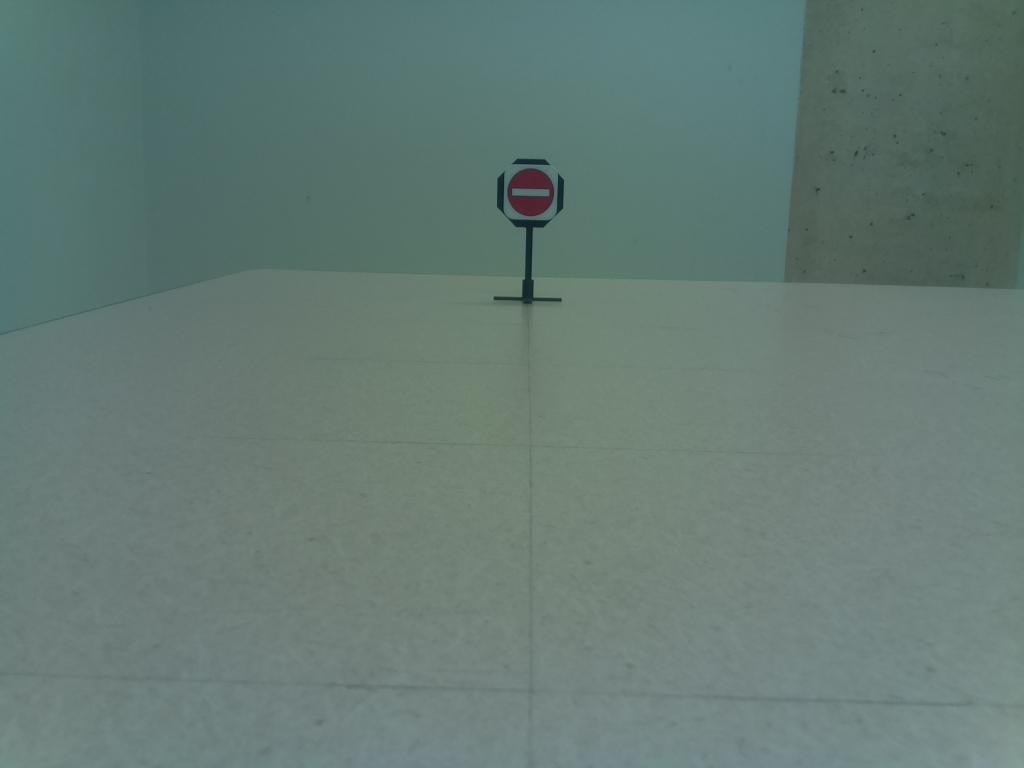sign_noentry: (492, 155, 570, 233)
